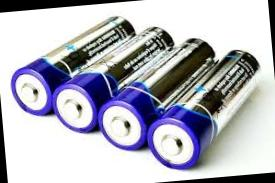battery: (132, 40, 271, 179), (34, 14, 184, 141), (0, 3, 145, 130), (89, 28, 226, 154)
